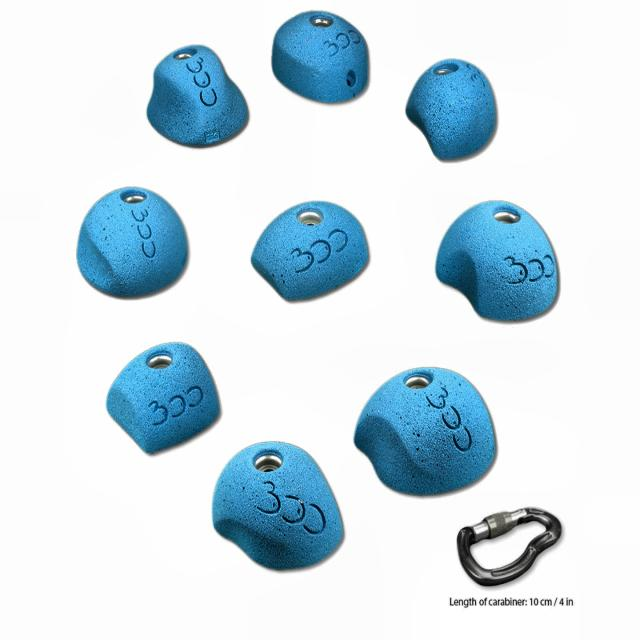Hold: (349, 366, 502, 498), (211, 440, 348, 571), (434, 199, 558, 320), (70, 181, 191, 302), (107, 339, 223, 453), (250, 202, 372, 301), (143, 45, 254, 146), (404, 57, 504, 162), (270, 13, 369, 106)
